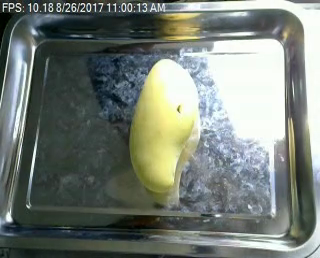Mango: (128, 56, 195, 194)
